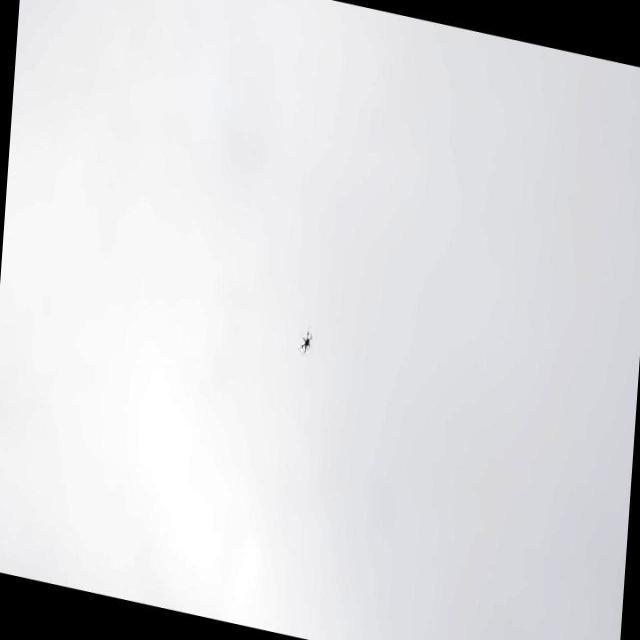drone: (296, 326, 318, 360)
